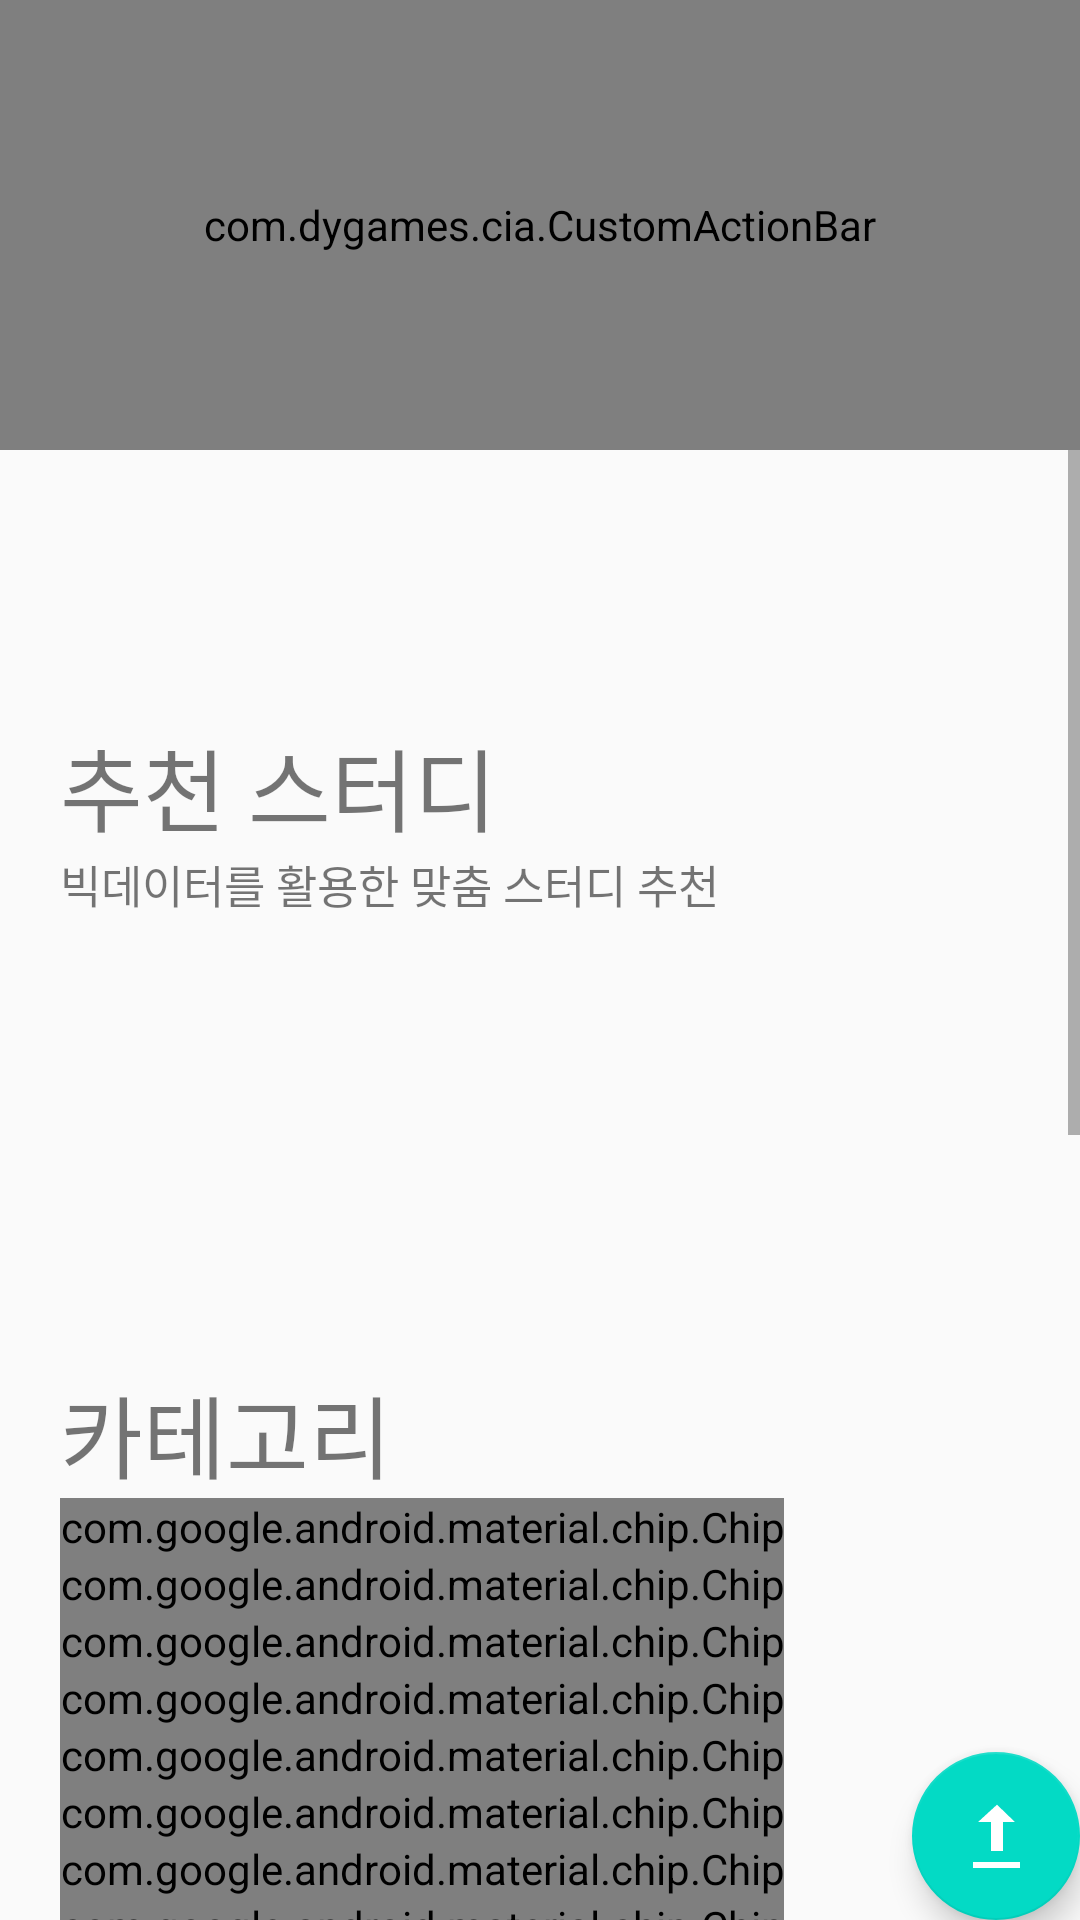

Locate icon controls on the screen. Image size 1080×1920, boxes as bbox(x1, y1, x2, y2).
upload: bbox(912, 1752, 1080, 1920)
